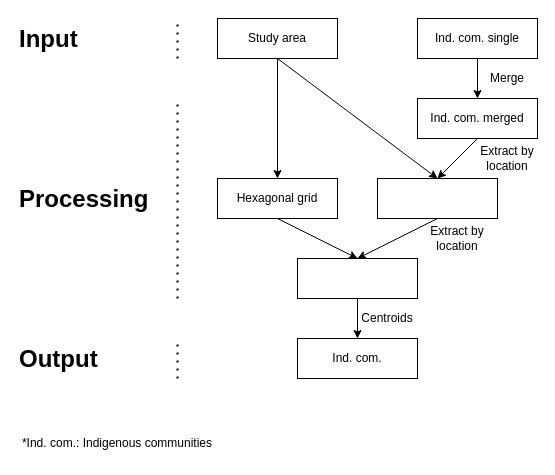
This 555x475 diagram has some shape labels left out. Each missing label, with the centre of its shape:
"Grid polygons with ind. com. inside" belongs at point (357, 278).
"Ind. com. in study area" belongs at point (437, 198).
